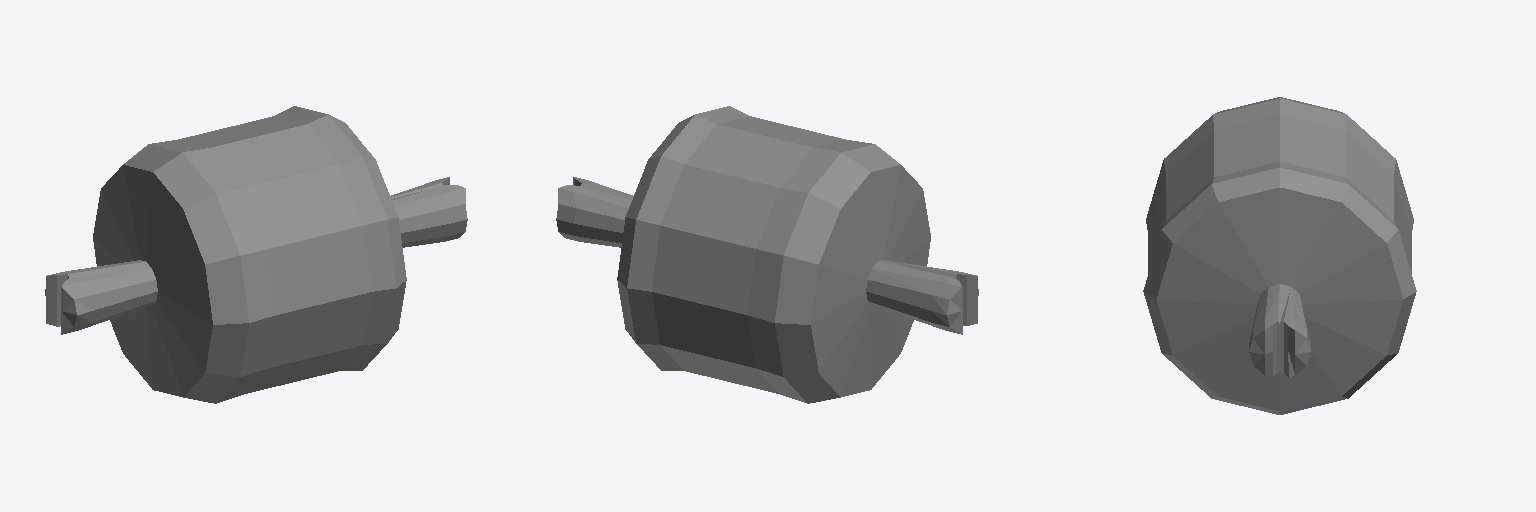
Rendered from Carne.obj.
3 views of the same model, side by side, from view 1: azimuth 30°, elevation 25°; view 2: azimuth 150°, elevation 25°; view 3: azimuth 270°, elevation 25° (orthographic).
Visible parts, largest first — view 1: Carne; view 2: Carne; view 3: Carne.
Part boxes in pixels (x1,y1,x2,y2): Carne: (45,106,467,403); Carne: (556,106,978,403); Carne: (1143,97,1416,414).
Bounding box in the file's own units: 118 × 68.87 × 68.87.